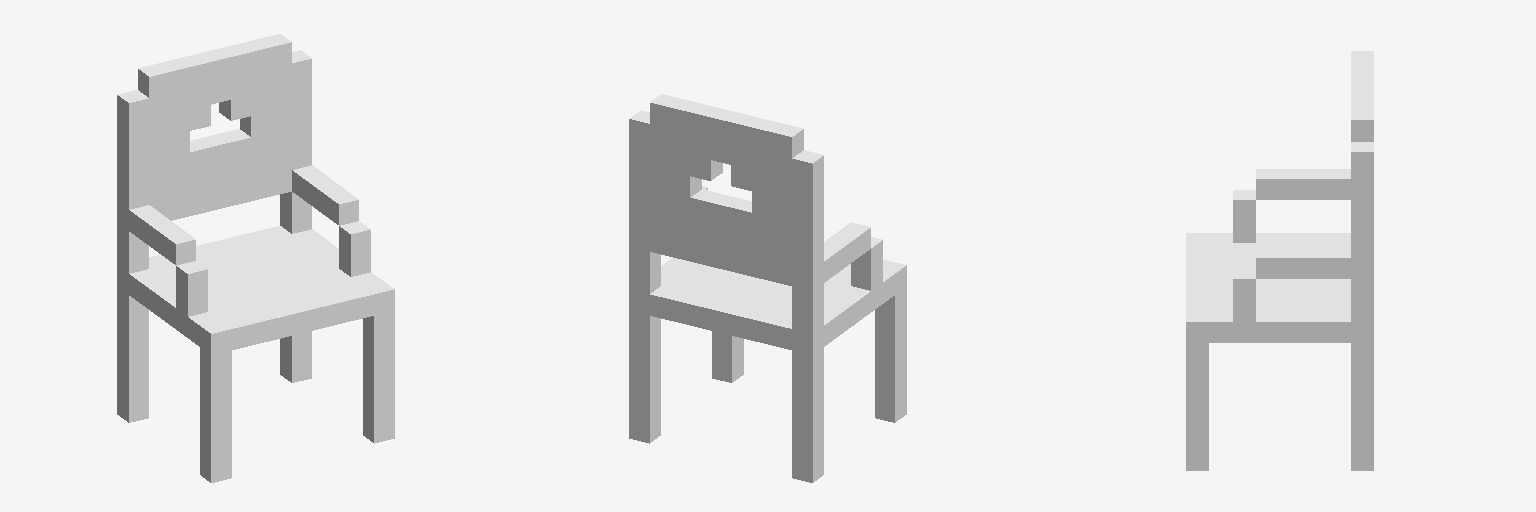
Rendered from chaise.obj.
3 views of the same model, side by side, from view 1: azimuth 30°, elevation 25°; view 2: azimuth 150°, elevation 25°; view 3: azimuth 270°, elevation 25° (orthographic).
Parts seen in each view (by area): view 1: object 1; view 2: object 1; view 3: object 1.
Part boxes in pixels (x1,y1,x2,y2): object 1: (117,34,394,482); object 1: (629,94,906,482); object 1: (1186,51,1373,470).
Size of the model in its own units: 0.9 by 1.6 by 0.8.